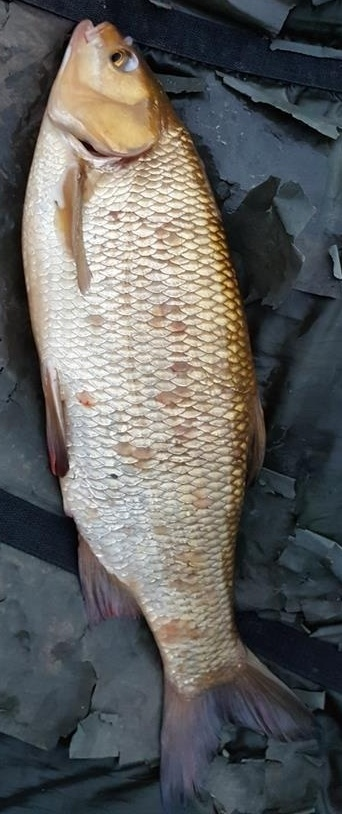Leuciscus idus: (20, 20, 322, 804)
